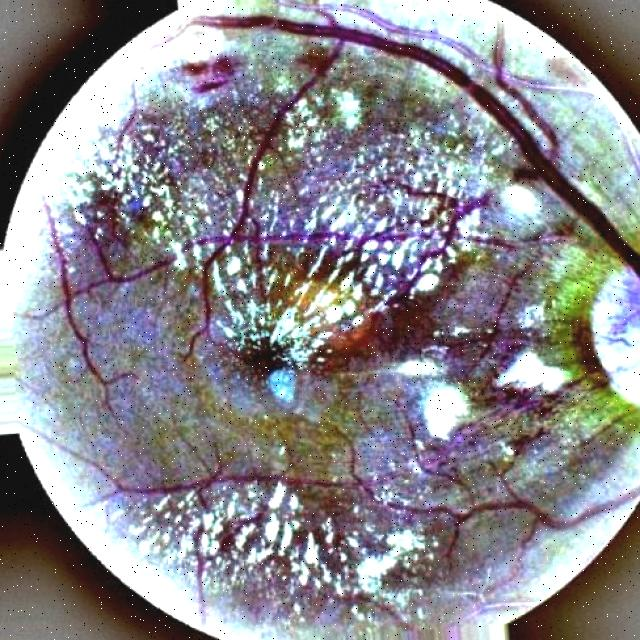Macula: (239, 338, 298, 382)
Nerves: (182, 17, 640, 354), (46, 197, 176, 408), (376, 481, 640, 563), (371, 178, 492, 308), (106, 468, 273, 504), (472, 270, 527, 353)
Optic Disk: (594, 271, 640, 405)
